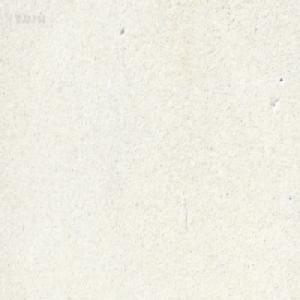Wrench: (176, 0, 182, 5)
